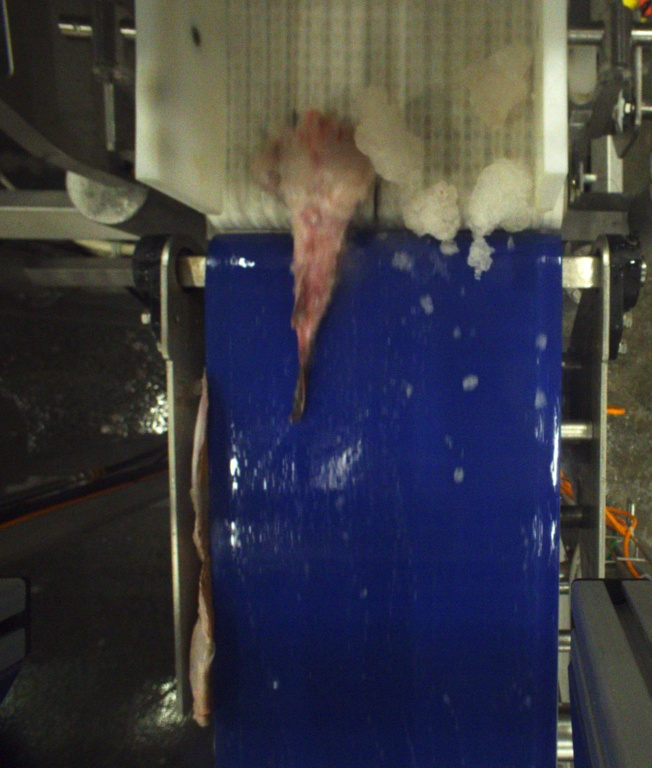ANF: (274, 114, 364, 429)
